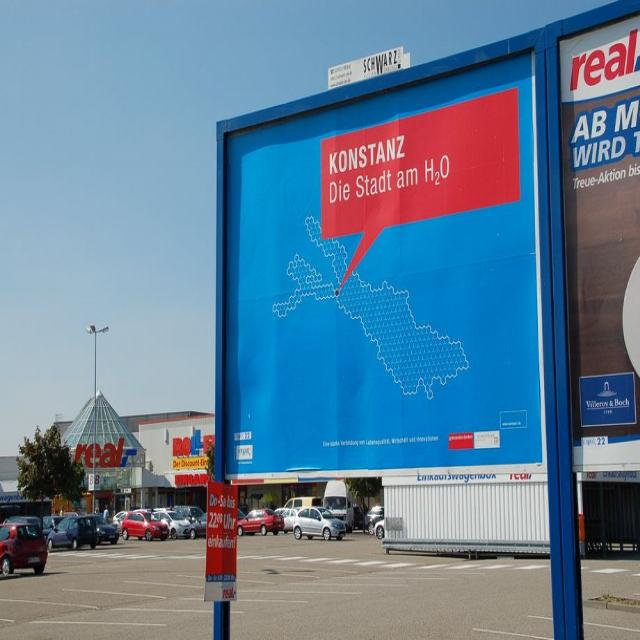Werbetafel frei: (216, 24, 560, 486)
